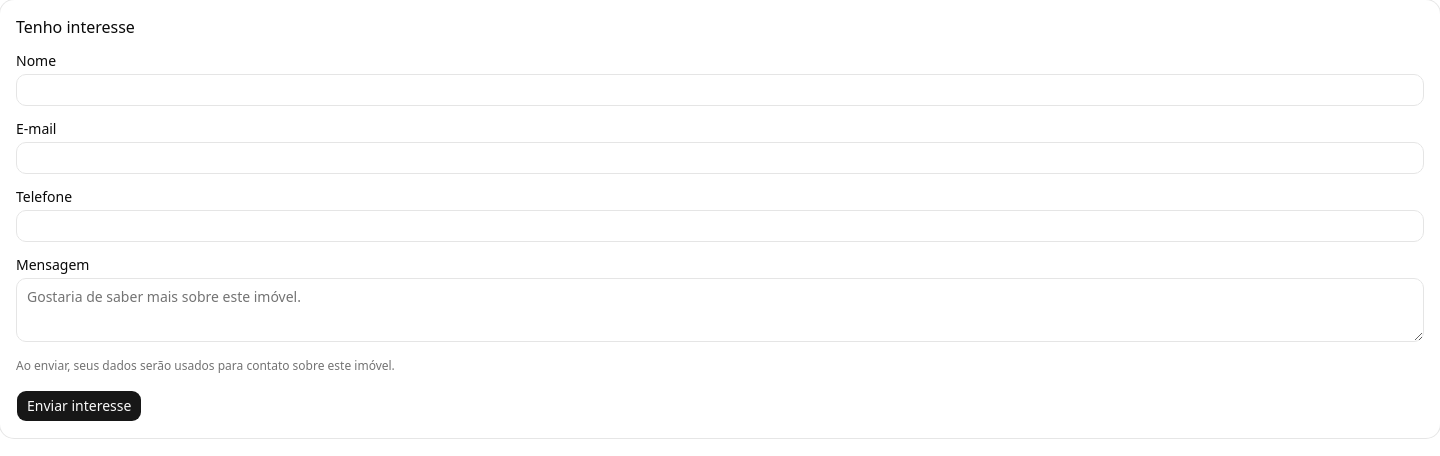
PropertyInterestForm — submit › shows a pending label and disables the button while submitting
The image size is (1440, 456).
Type "Maria Souza" into the field labelled "Nome".
click(720, 90); type("Maria Souza")  # box [16,74,1424,106]
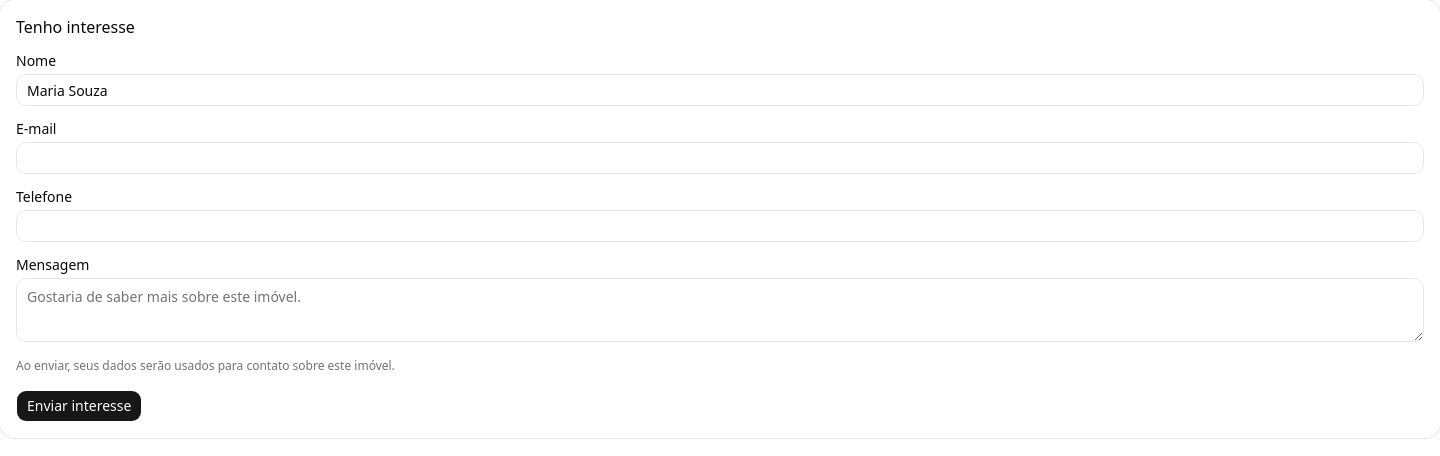
Type "maria@example.com" into the field labelled "E-mail".
click(720, 158); type("maria@example.com")  # box [16,142,1424,174]
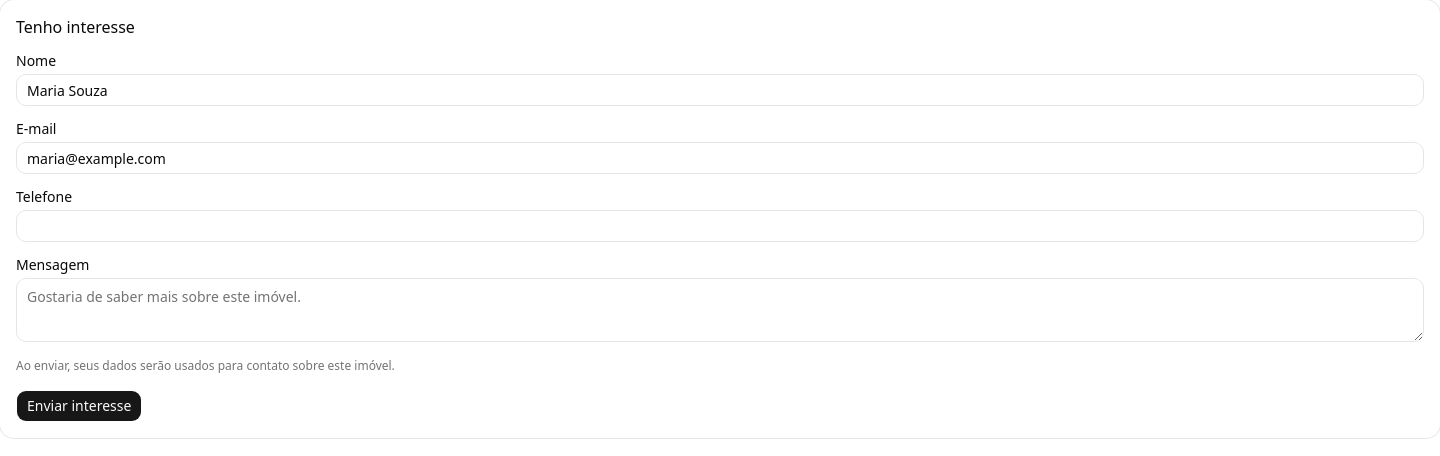
Click the button "Enviar interesse".
click(79, 406)  # box [16,390,142,422]
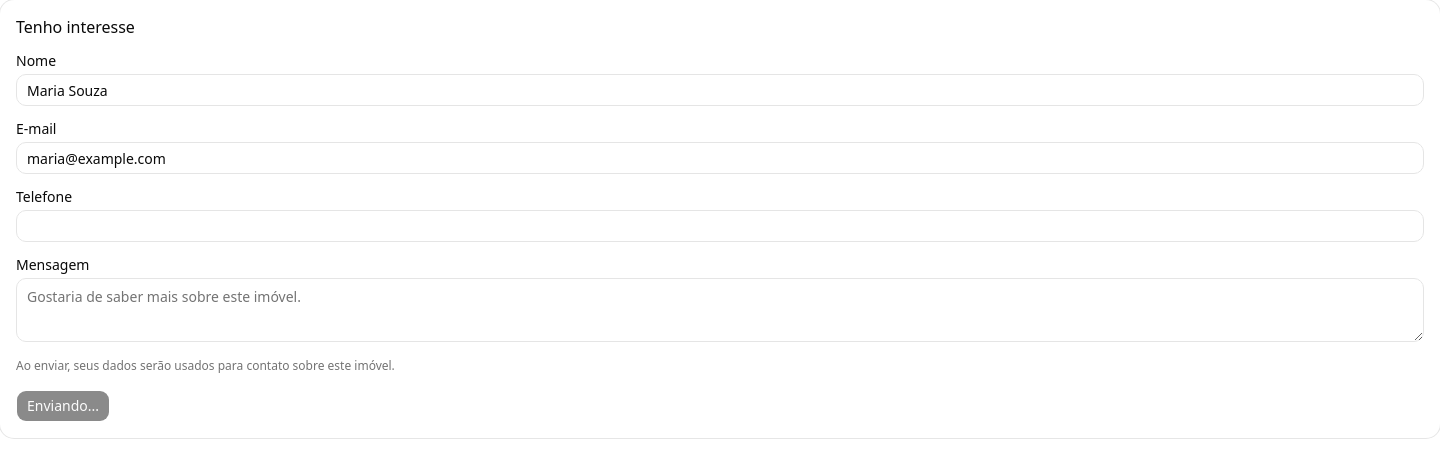
Expected: the button "Enviando..." is disabled, [16,390,110,422]
